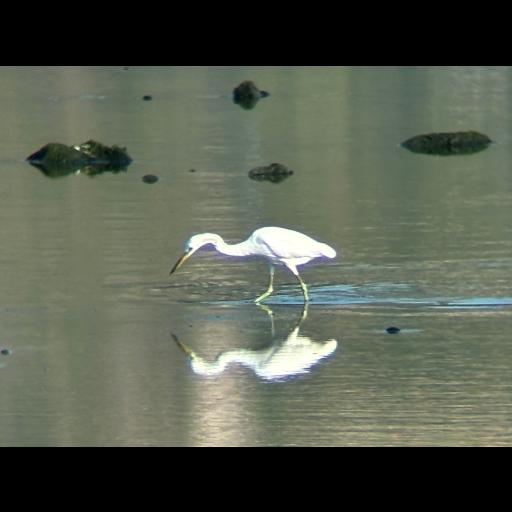chinese_egret: (168, 224, 336, 308)
